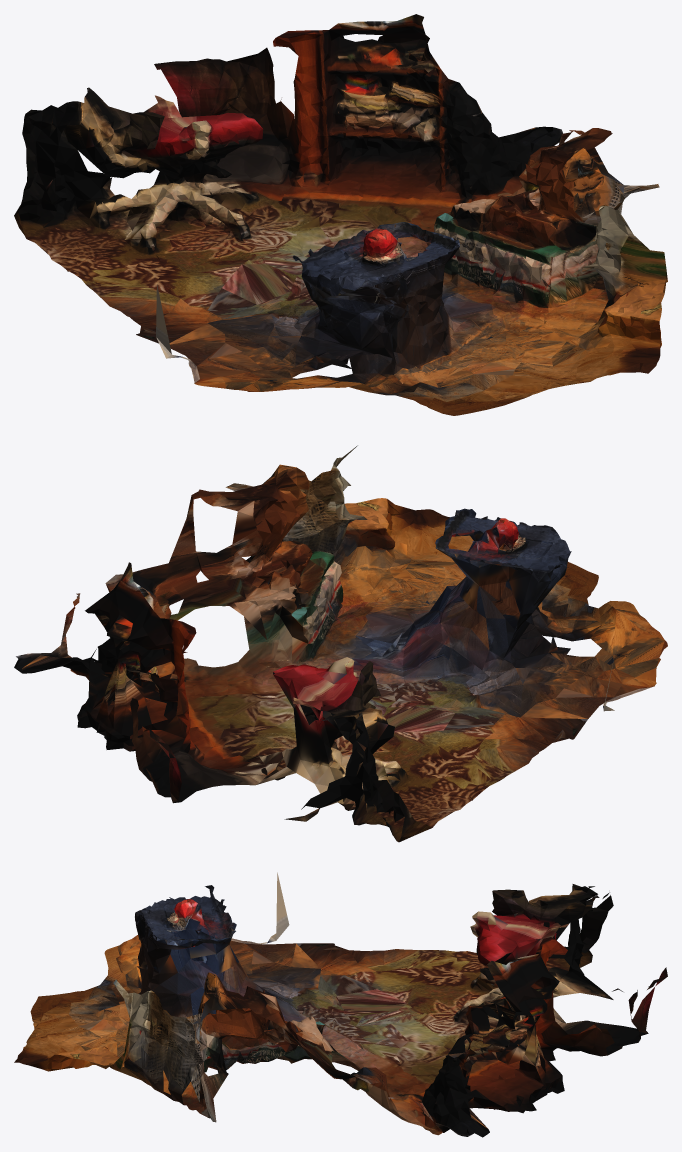
File: fruit2.gltf
3 views of the same model, one above another, from view 1: azimuth 30°, elevation 25°; view 2: azimuth 150°, elevation 25°; view 3: azimuth 270°, elevation 25° (orthographic). The views are drawn at different scales.
Visible parts, largest first — view 1: texturedMesh; view 2: texturedMesh; view 3: texturedMesh.
Boxes of the visible parts, x1=… form: texturedMesh: x1=14, y1=14, x2=667, y2=415; texturedMesh: x1=14, y1=445, x2=667, y2=842; texturedMesh: x1=14, y1=872, x2=667, y2=1137.
Size of the model in its own units: 6.61 by 2.04 by 8.43.
7 materials, 7 textured.
